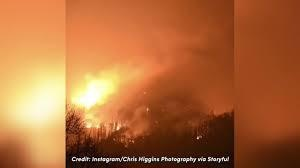fire: (73, 75, 113, 108)
